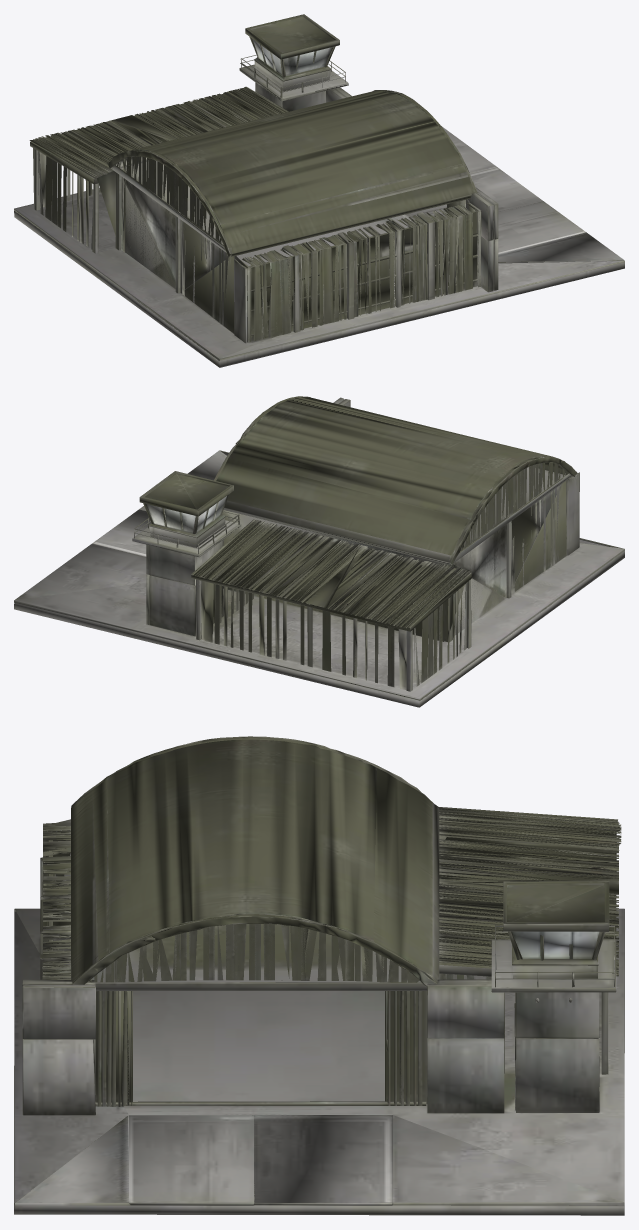
The model's file is airfield.glb.
3 views of the same model, one above another, from view 1: azimuth 30°, elevation 25°; view 2: azimuth 150°, elevation 25°; view 3: azimuth 270°, elevation 25° (orthographic). The views are drawn at different scales.
Visible parts, largest first — view 1: hull; view 2: hull; view 3: hull.
Boxes of the visible parts, left/top/right/bottom form: hull: left=14, top=14, right=624, bottom=367; hull: left=14, top=396, right=624, bottom=707; hull: left=14, top=736, right=624, bottom=1215.
Size of the model in its own units: 26.2 by 8.62 by 23.04.
3 materials, 3 textured.
